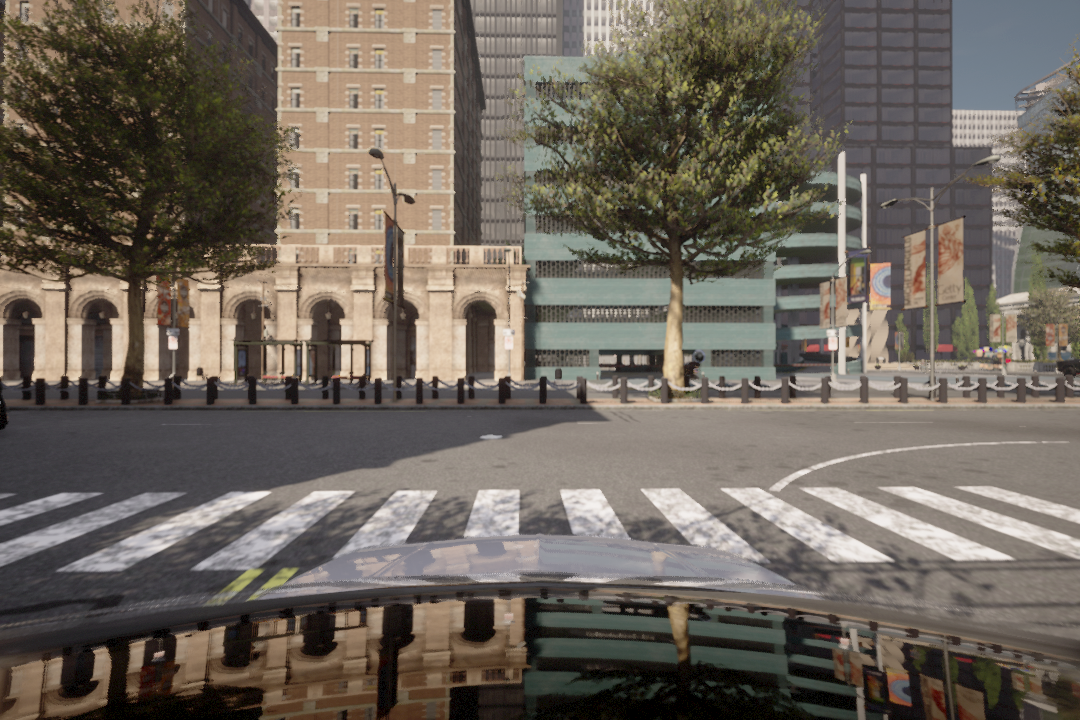walkside: (4, 490, 1080, 574)
